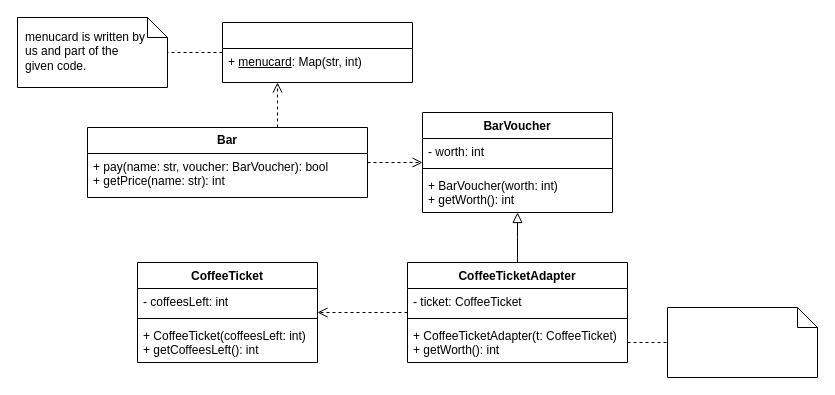
Some shapes in this 835 by 395 pixel diagram are drawn without their labels. Each missing label, with the box of its shape:
A coffee is equivalent to a BarVoucher with worth = 8 .: (666, 306, 818, 378)
BarMenu: (222, 22, 412, 82)
